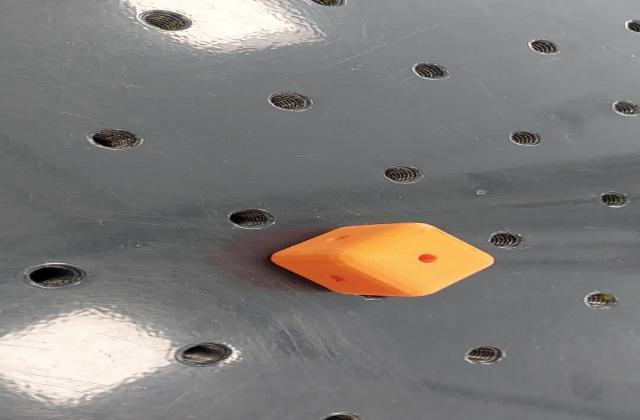cube: (259, 220, 507, 301)
